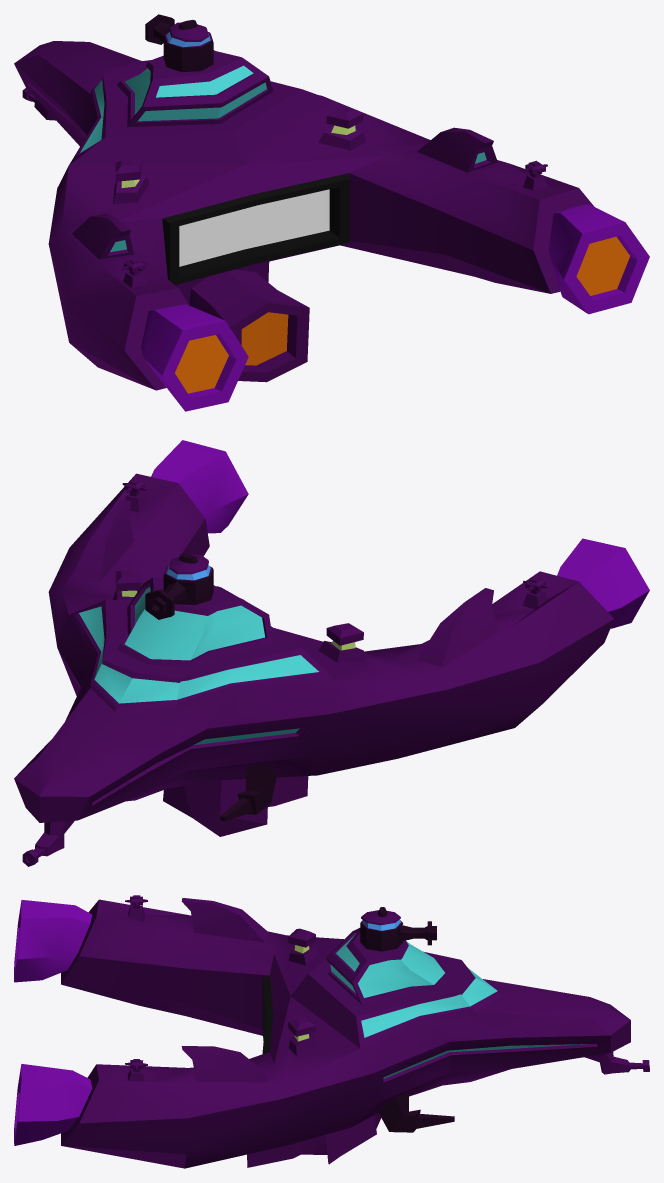
The model's file is spaceship.fbx.
The picture shows the model from 3 angles, top to bottom: view 1: azimuth 30°, elevation 25°; view 2: azimuth 150°, elevation 25°; view 3: azimuth 270°, elevation 25°; orthographic projection. The views are drawn at different scales.
Parts seen in each view (by area): view 1: Plane; view 2: Plane; view 3: Plane.
Boxes of the visible parts, box(x1,y1,x2,y2) form: Plane: box(14, 14, 649, 411); Plane: box(14, 440, 649, 866); Plane: box(14, 895, 649, 1168).
Size of the model in its own units: 360 by 213 by 483.
